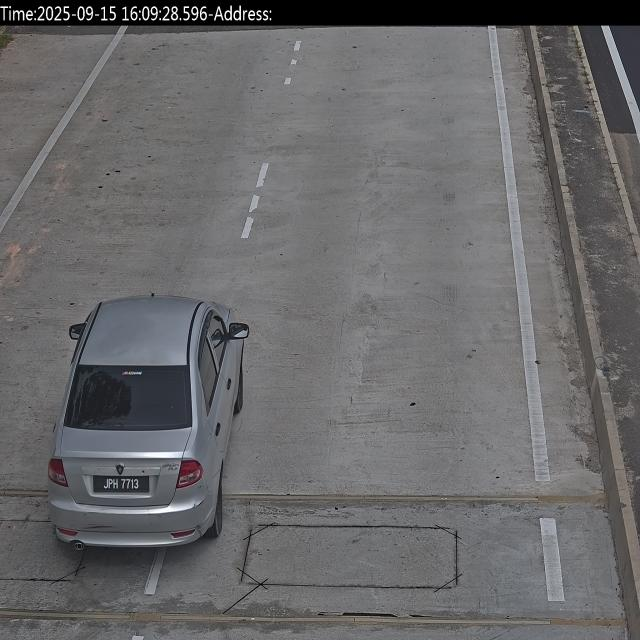back: (91, 469, 152, 499)
